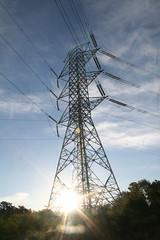power_tower: (43, 39, 124, 211)
